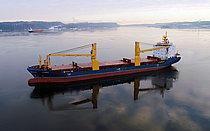Ship: (23, 32, 185, 89)
